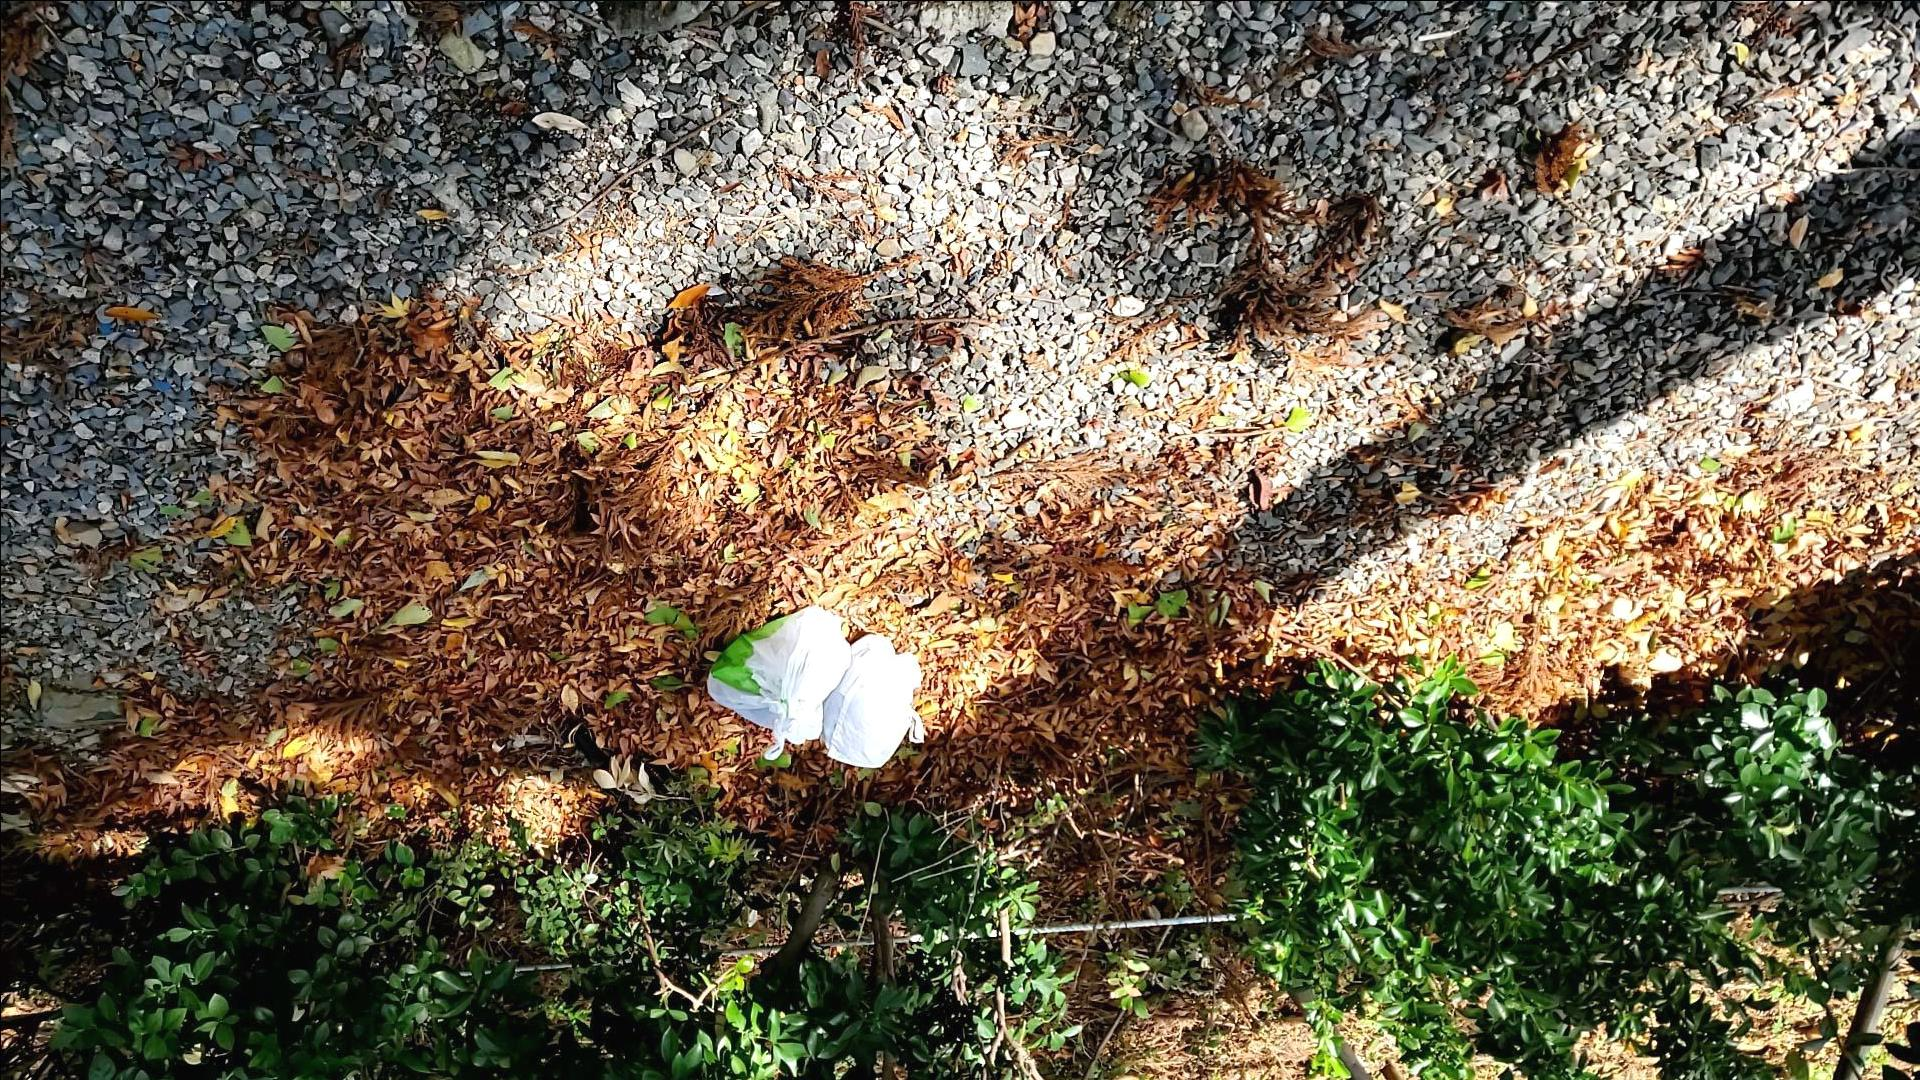white_bag: (691, 600, 851, 766), (818, 629, 936, 778)
